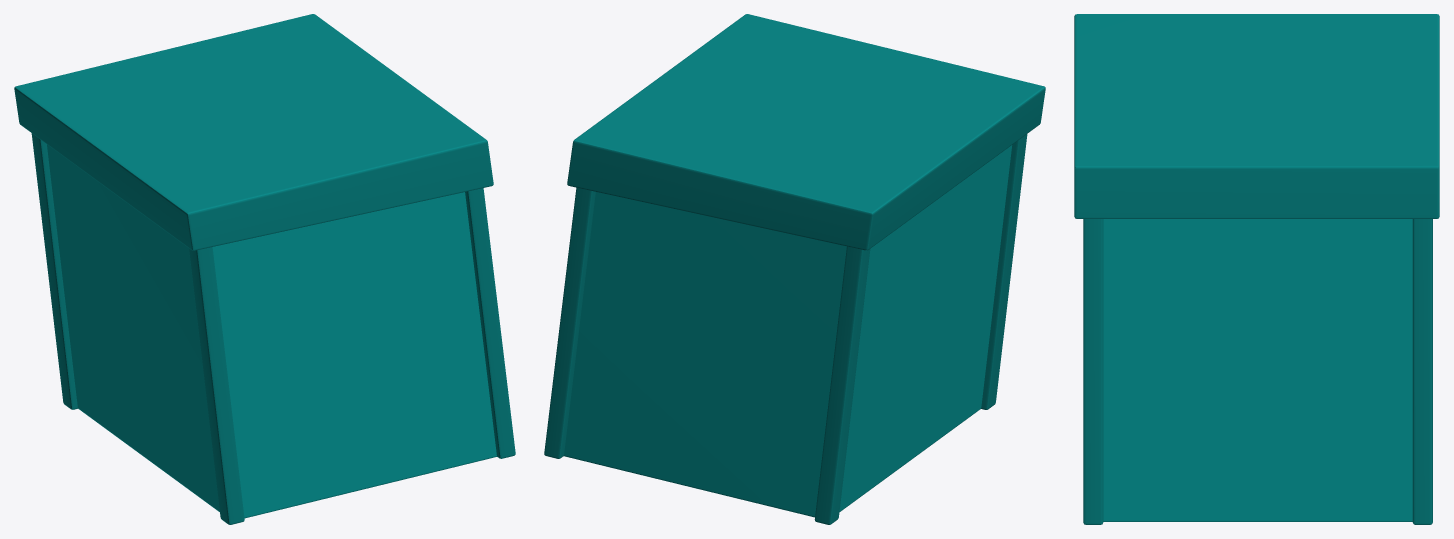
File: Mesh_EDH_Building5.fbx
The picture shows the model from 3 angles, left to right: view 1: azimuth 30°, elevation 25°; view 2: azimuth 150°, elevation 25°; view 3: azimuth 270°, elevation 25°; orthographic projection. The views are drawn at different scales.
Visible parts, largest first — view 1: pCube35; view 2: pCube35; view 3: pCube35.
Part boxes in pixels (box(x1,y1,x2,y2)): pCube35: box(14, 14, 515, 524); pCube35: box(544, 14, 1045, 524); pCube35: box(1074, 14, 1439, 524).
Size of the model in its own units: 193 by 181 by 175.
